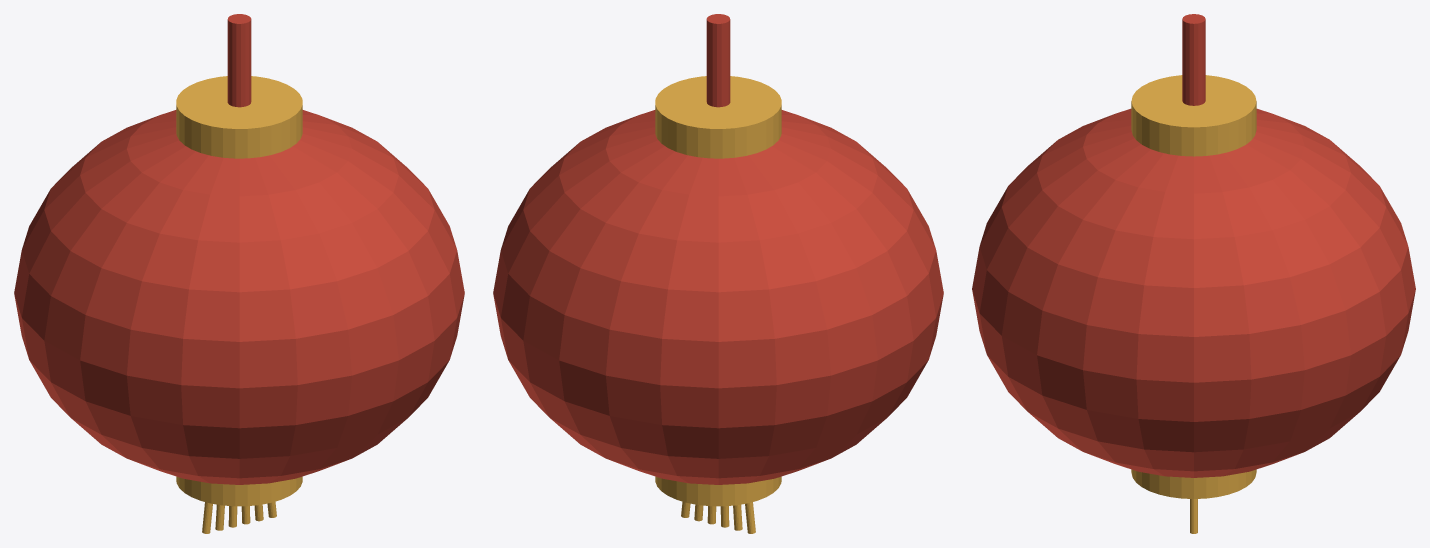
Rendered from scendance-plan-cn-lantern-round.glb.
3 renders of one model, left to right at view 1: azimuth 30°, elevation 25°; view 2: azimuth 150°, elevation 25°; view 3: azimuth 270°, elevation 25°, orthographic.
Bounding box in the file's own units: 0.76 × 0.9407 × 0.76.
